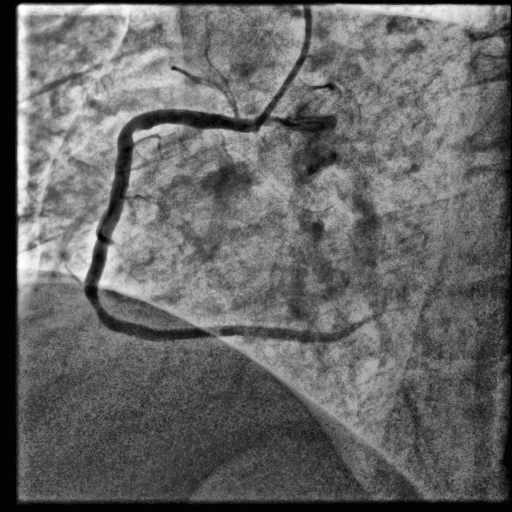rca: (85, 110, 369, 344)
